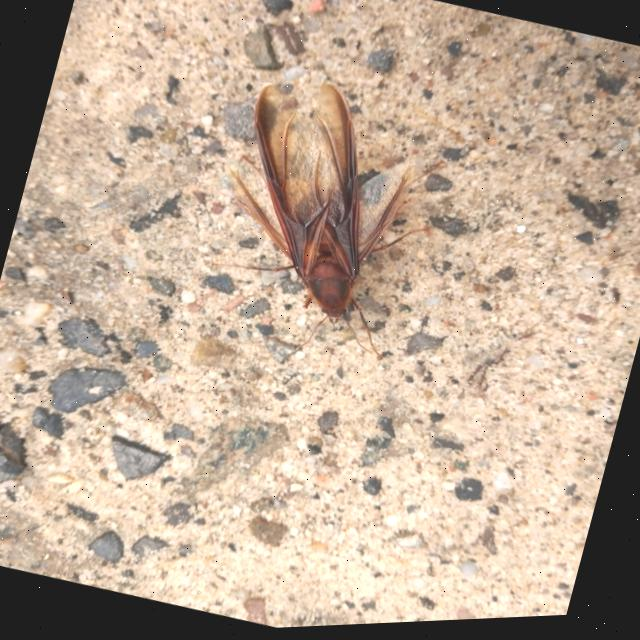Alive-Male-Alate: (194, 63, 458, 381)
